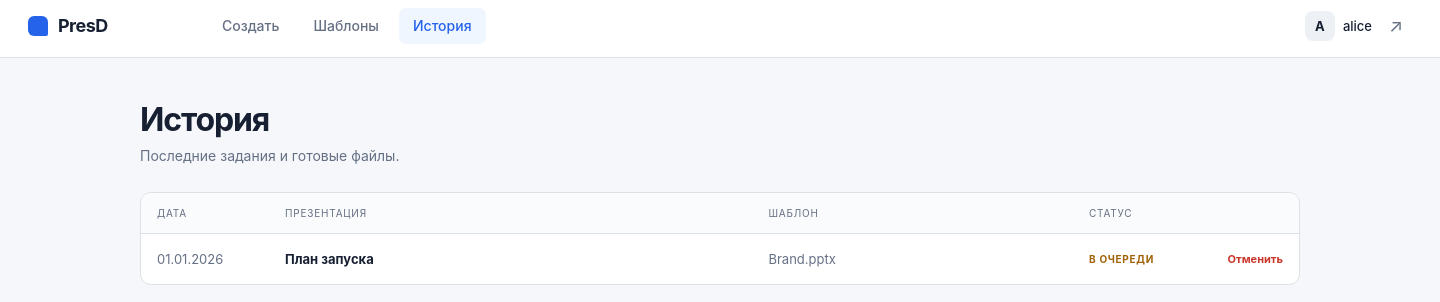
Scenario: active job can be canceled directly from history
This screenshot has width=1440, height=302.
Step 1. Click the button "Отменить" → click(1245, 259), box [1207,248,1283,270]
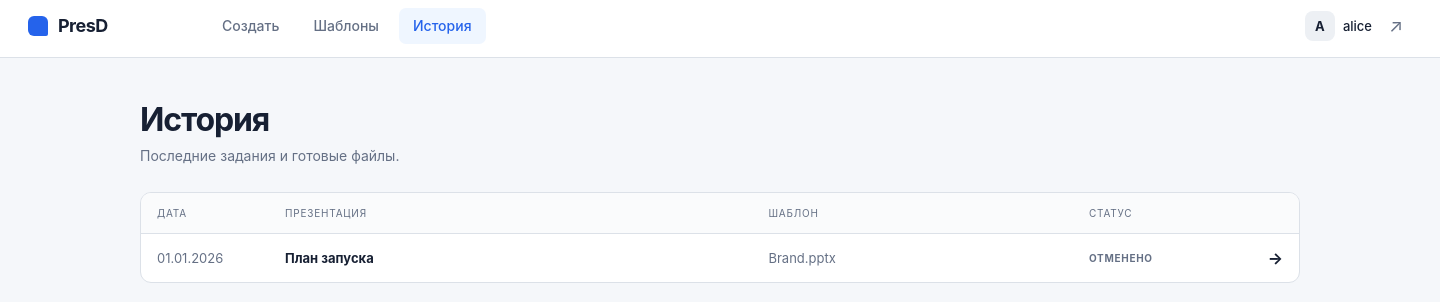
Expected: the text "Отменено" is shown, [1089,252,1153,264]
Expected: the button "Отменить" is gone
Expected: the link named "Открыть: План запуска" is shown, [1268,248,1283,268]
